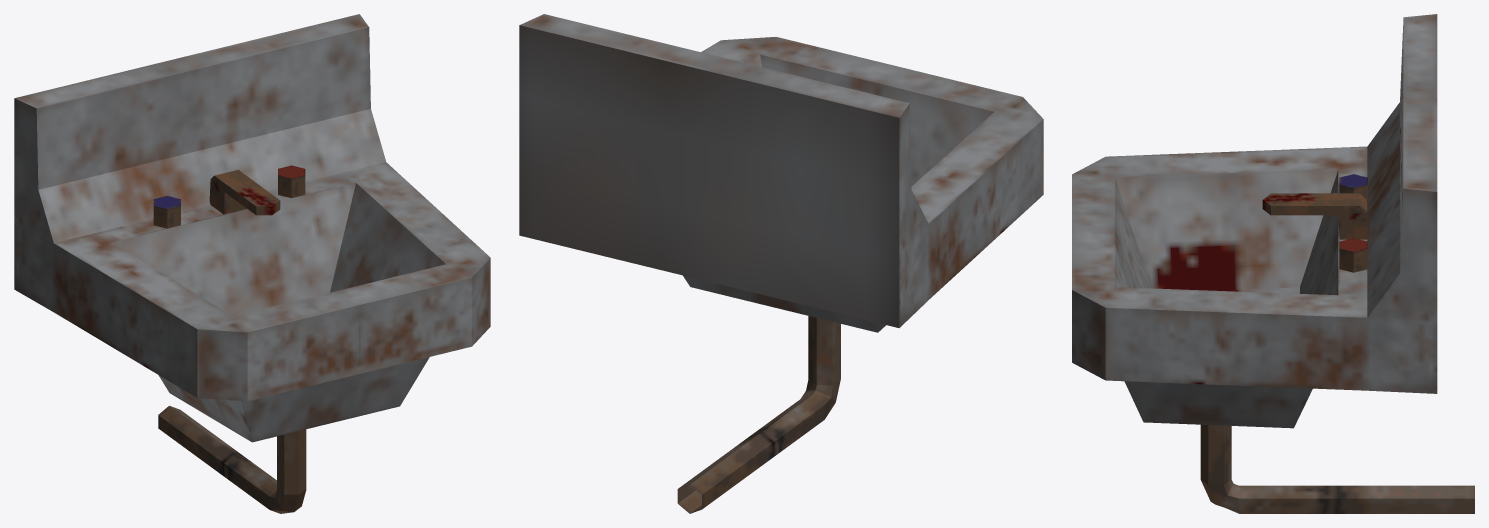
The model's file is rukomoinik.fbx.
3 renders of one model, left to right at view 1: azimuth 30°, elevation 25°; view 2: azimuth 150°, elevation 25°; view 3: azimuth 270°, elevation 25°, orthographic. The views are drawn at different scales.
Parts seen in each view (by area): view 1: Cylinder.001; view 2: Cylinder.001; view 3: Cylinder.001.
Part boxes in pixels (left/top/right/bottom): Cylinder.001: left=14, top=14, right=490, bottom=513; Cylinder.001: left=519, top=14, right=1043, bottom=513; Cylinder.001: left=1072, top=14, right=1474, bottom=513.
Size of the model in its own units: 63.19 by 68.05 by 60.43.
Materials: 3 (3 with a texture image).
